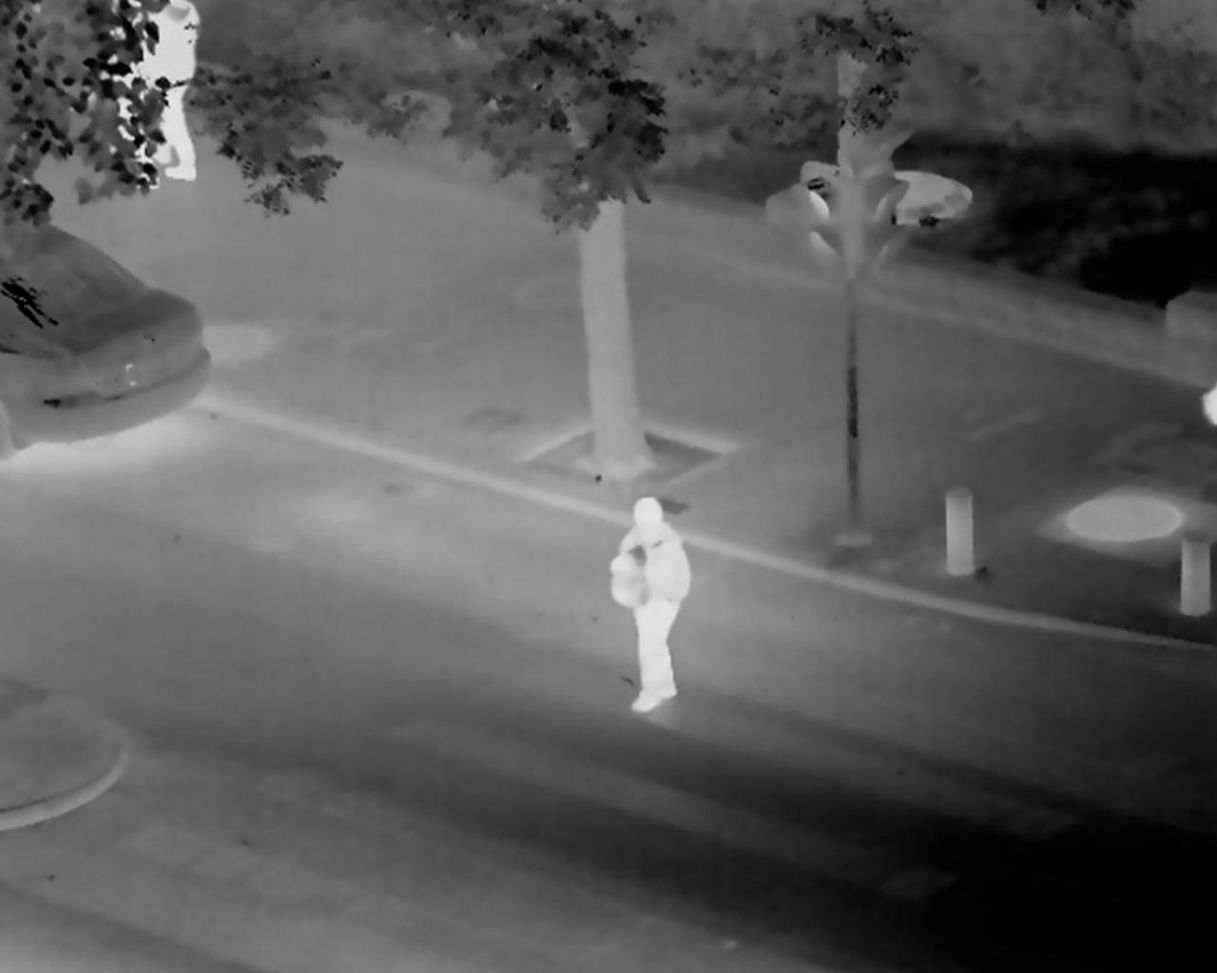person: (606, 496, 701, 718)
